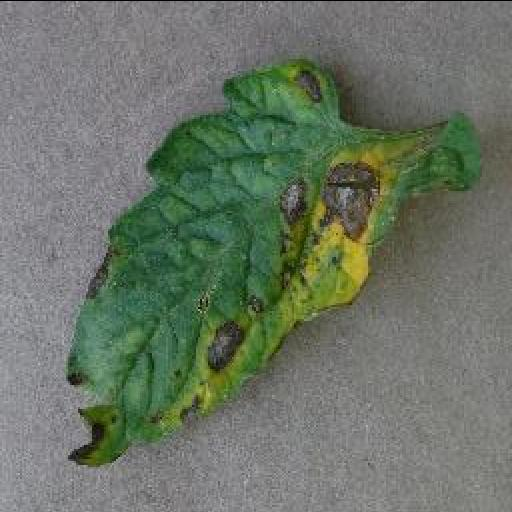disease_tomato: (62, 62, 488, 464)
